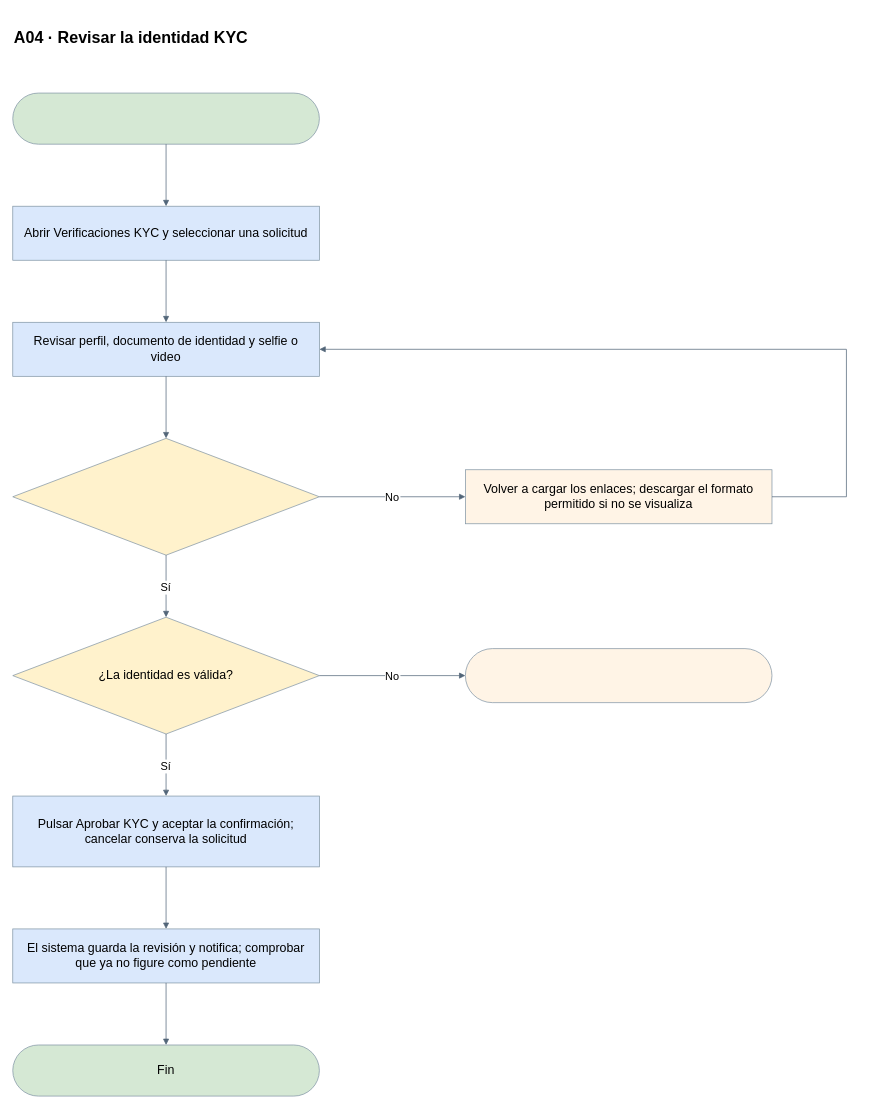
This 887x1109 diagram has some shape labels left out. The centre of each missing label's shape, as x and y in pixels:
Ingresar motivo y rechazar; el emprendedor recibe aviso y puede reenviar: [618,675]
Inicio: [165,118]
¿Los archivos se pueden revisar?: [165,496]
